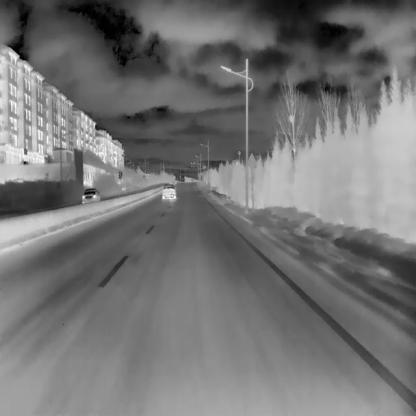car: (81, 187, 100, 202), (161, 182, 176, 199)
